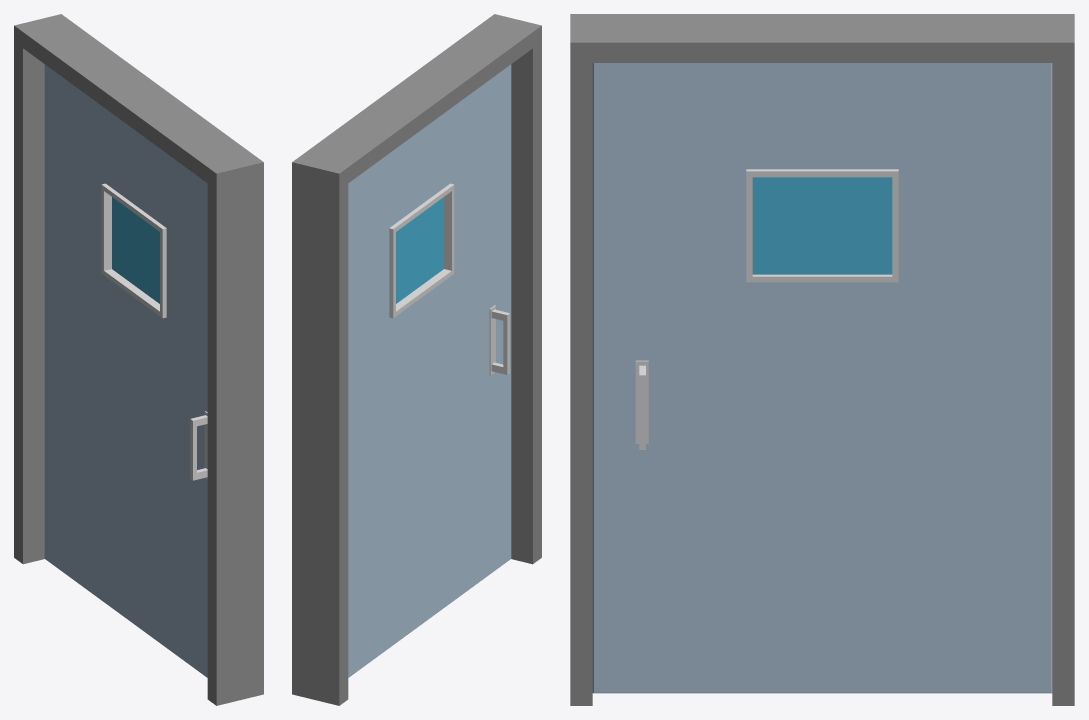
File: DoorMetal3.fbx
3 views of the same model, side by side, from view 1: azimuth 30°, elevation 25°; view 2: azimuth 150°, elevation 25°; view 3: azimuth 270°, elevation 25° (orthographic). The views are drawn at different scales.
Visible parts, largest first — view 1: DoodMetal3, DoorMetalFrame3, Door3Glass; view 2: DoodMetal3, DoorMetalFrame3, Door3Glass; view 3: DoodMetal3, DoorMetalFrame3, Door3Glass.
Part boxes in pixels (left/top/right/bottom): DoodMetal3: left=44, top=64, right=207, bottom=677; DoorMetalFrame3: left=14, top=14, right=263, bottom=705; Door3Glass: left=112, top=197, right=159, bottom=303; DoodMetal3: left=348, top=64, right=511, bottom=677; DoorMetalFrame3: left=292, top=14, right=541, bottom=705; Door3Glass: left=396, top=197, right=443, bottom=303; DoodMetal3: left=592, top=63, right=1052, bottom=693; DoorMetalFrame3: left=570, top=14, right=1074, bottom=705; Door3Glass: left=752, top=177, right=892, bottom=274.
Size of the model in its own units: 42.05 by 452 by 312.
